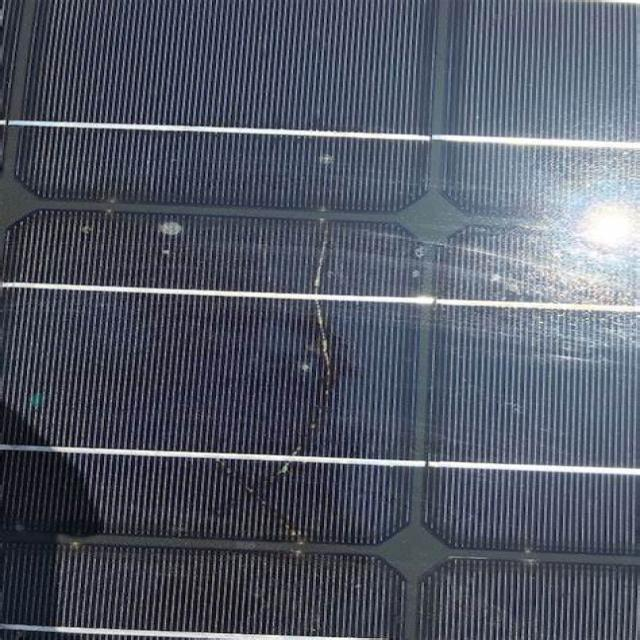Electrical-damage: (299, 215, 350, 461), (204, 454, 308, 540)
